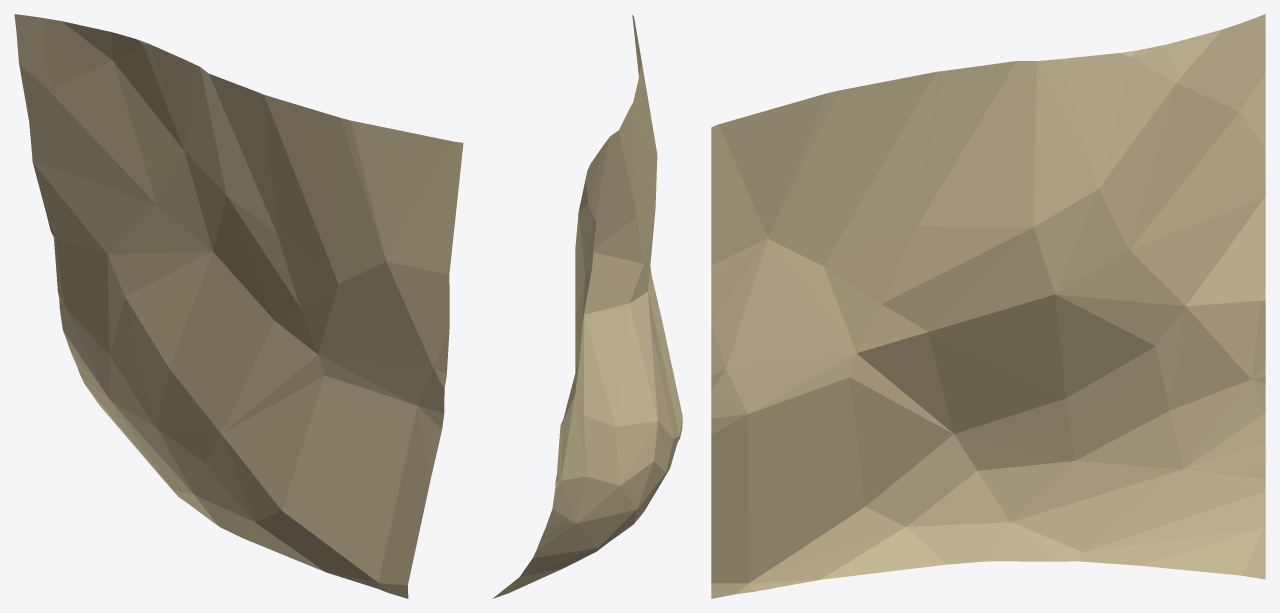
File: bisect-8-2-2.gltf
The picture shows the model from 3 angles, left to right: view 1: azimuth 30°, elevation 25°; view 2: azimuth 150°, elevation 25°; view 3: azimuth 270°, elevation 25°; orthographic projection. The views are drawn at different scales.
Visible parts, largest first — view 1: bisect-8-2-2; view 2: bisect-8-2-2; view 3: bisect-8-2-2.
Part boxes in pixels (x1,y1,x2,y2): bisect-8-2-2: (14, 14, 463, 598); bisect-8-2-2: (492, 15, 682, 598); bisect-8-2-2: (711, 14, 1265, 598).
Size of the model in its own units: 9.68 by 20 by 20.
